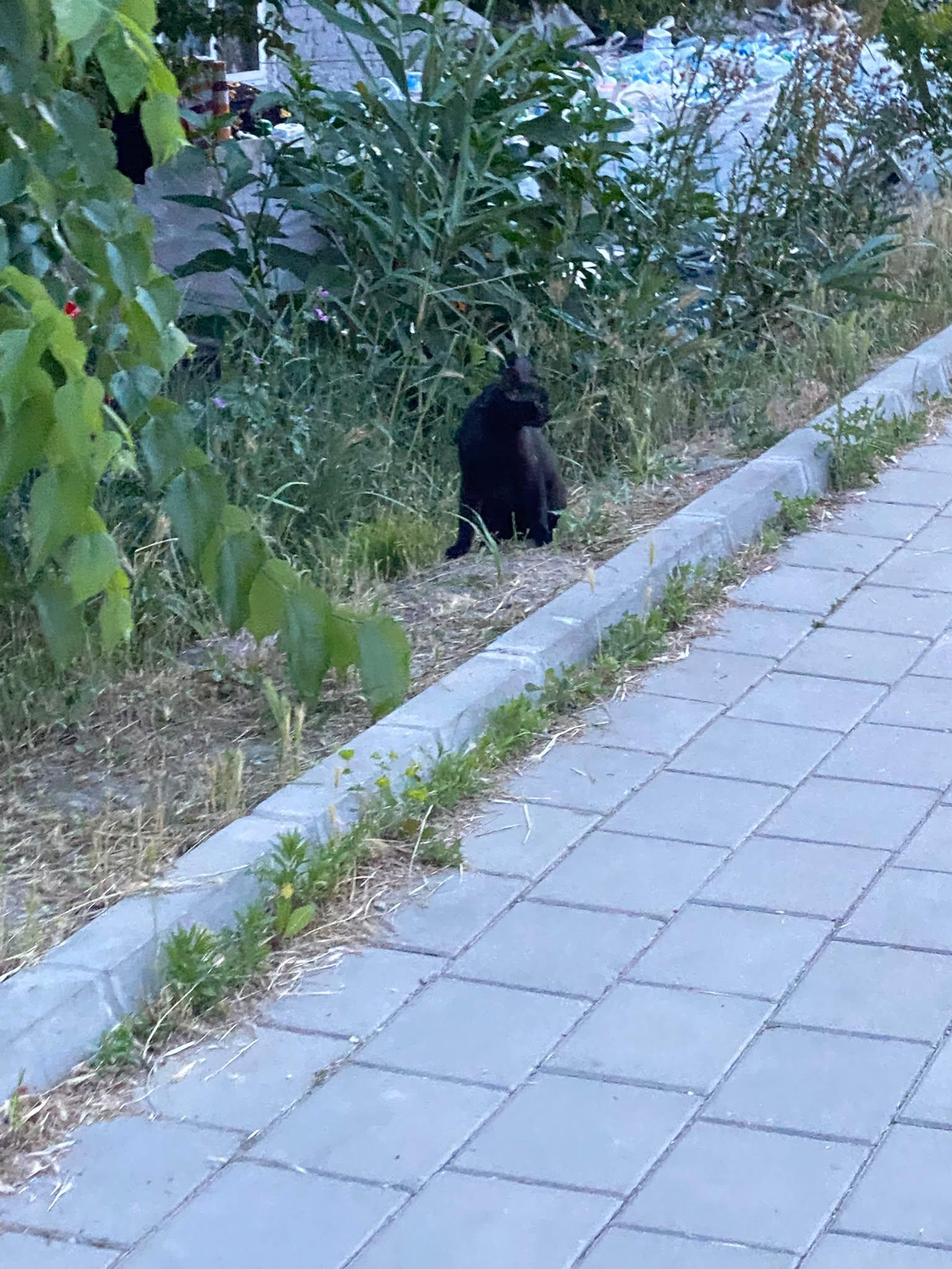macka: (443, 362, 570, 560)
